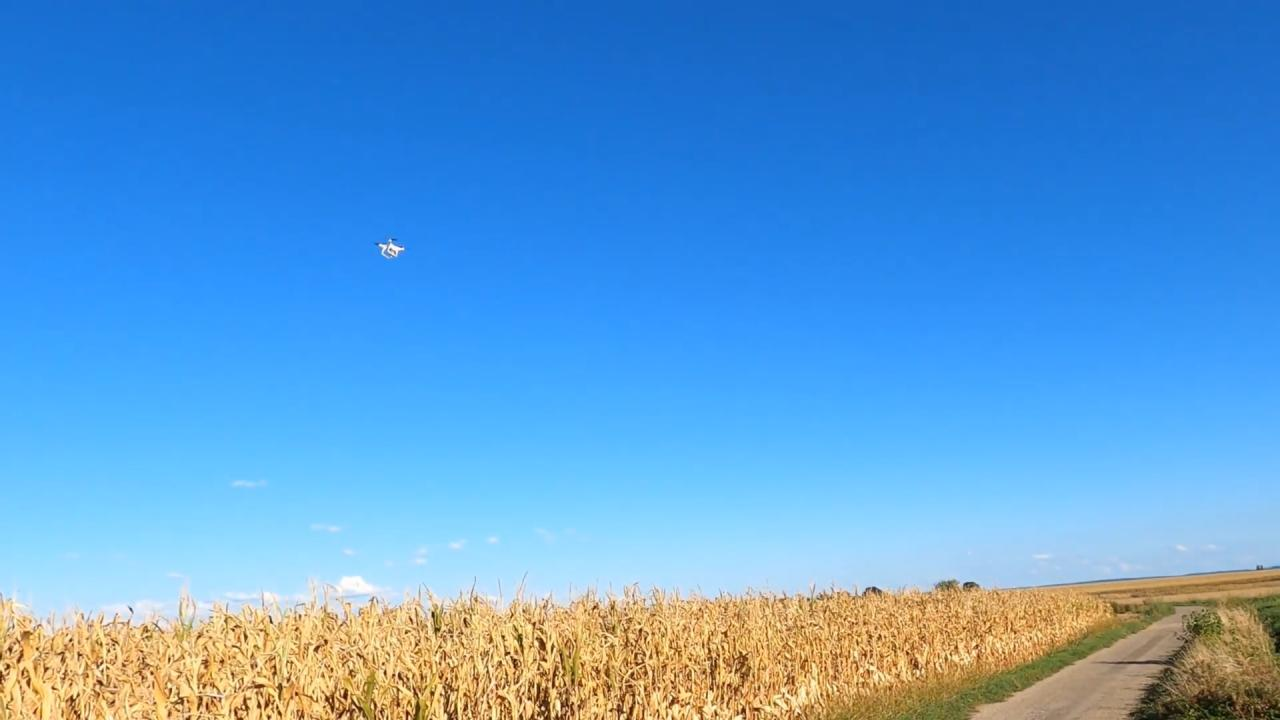Drone: (361, 227, 418, 271)
